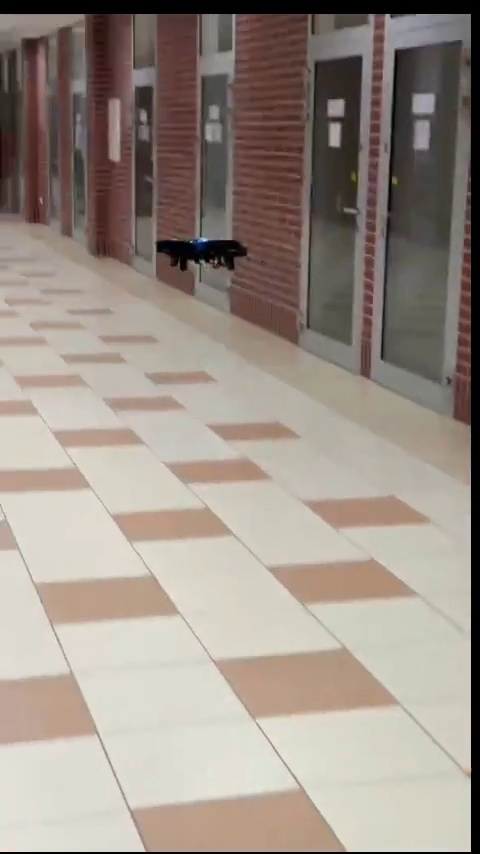drone: (161, 232, 246, 273)
